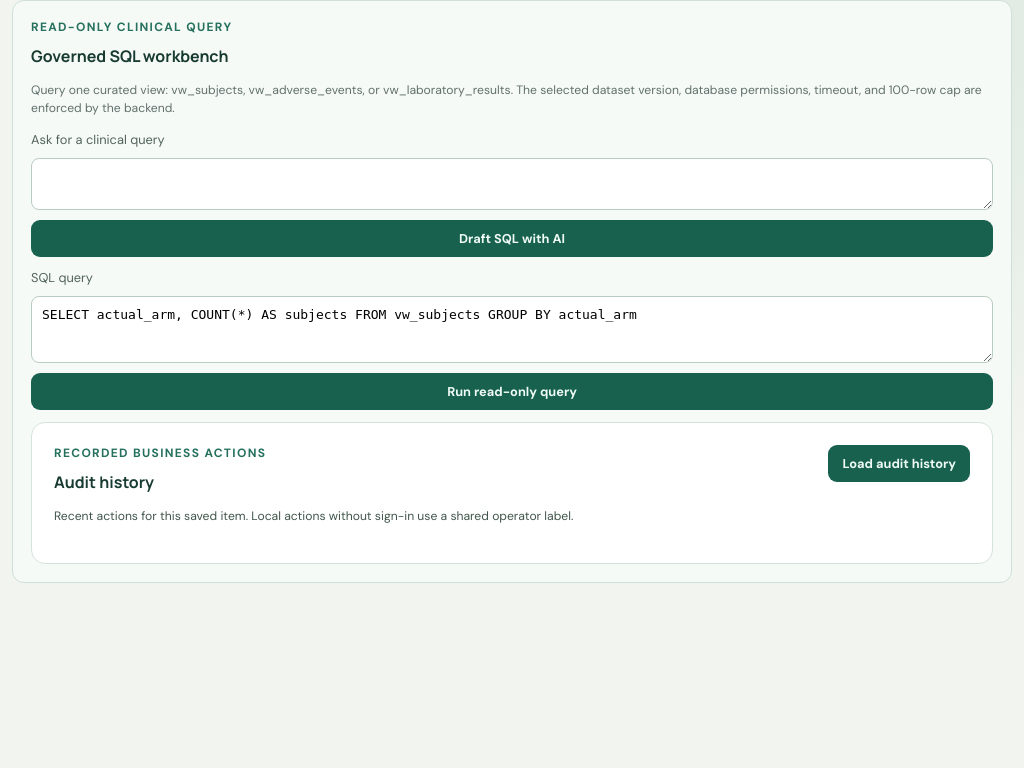
SQLWorkbench › displays the backend-normalized query and rows
This screenshot has width=1024, height=768.
Click the button "Run read-only query" at coordinates (512, 392), box left=31, top=374, right=993, bottom=410
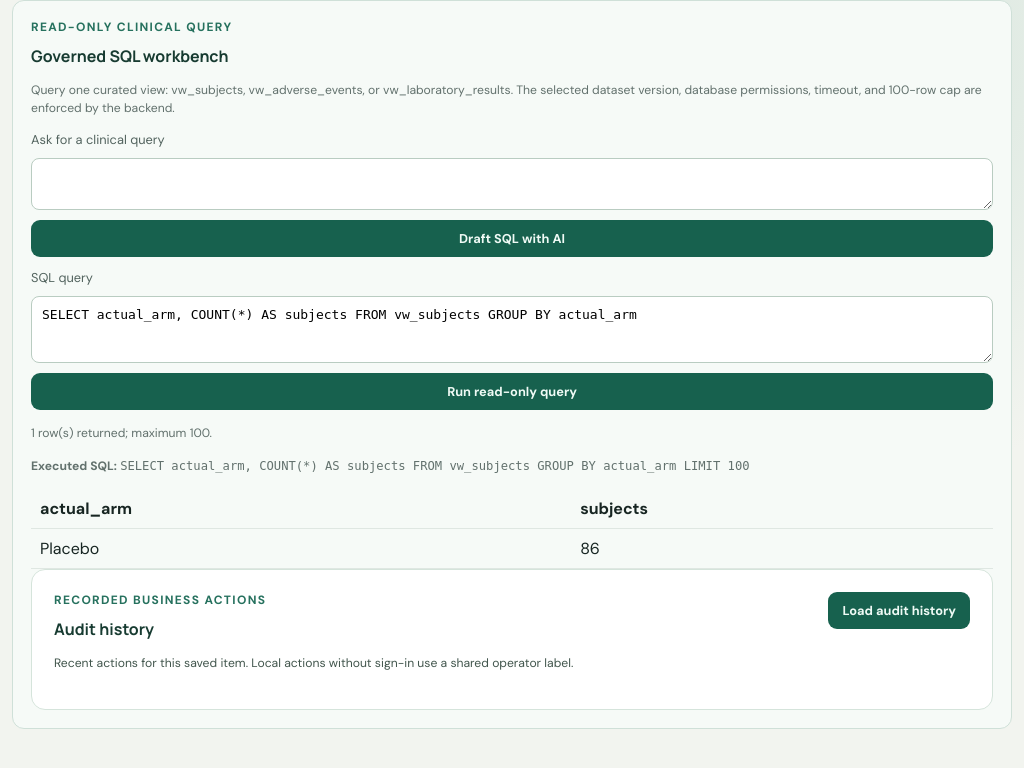
Now the element named "Governed SQL result" shows "Placebo", box left=40, top=538, right=99, bottom=559
Now the text "86" is shown, box left=571, top=528, right=993, bottom=568
Now the text "LIMIT 100" is shown, box left=120, top=459, right=750, bottom=473
